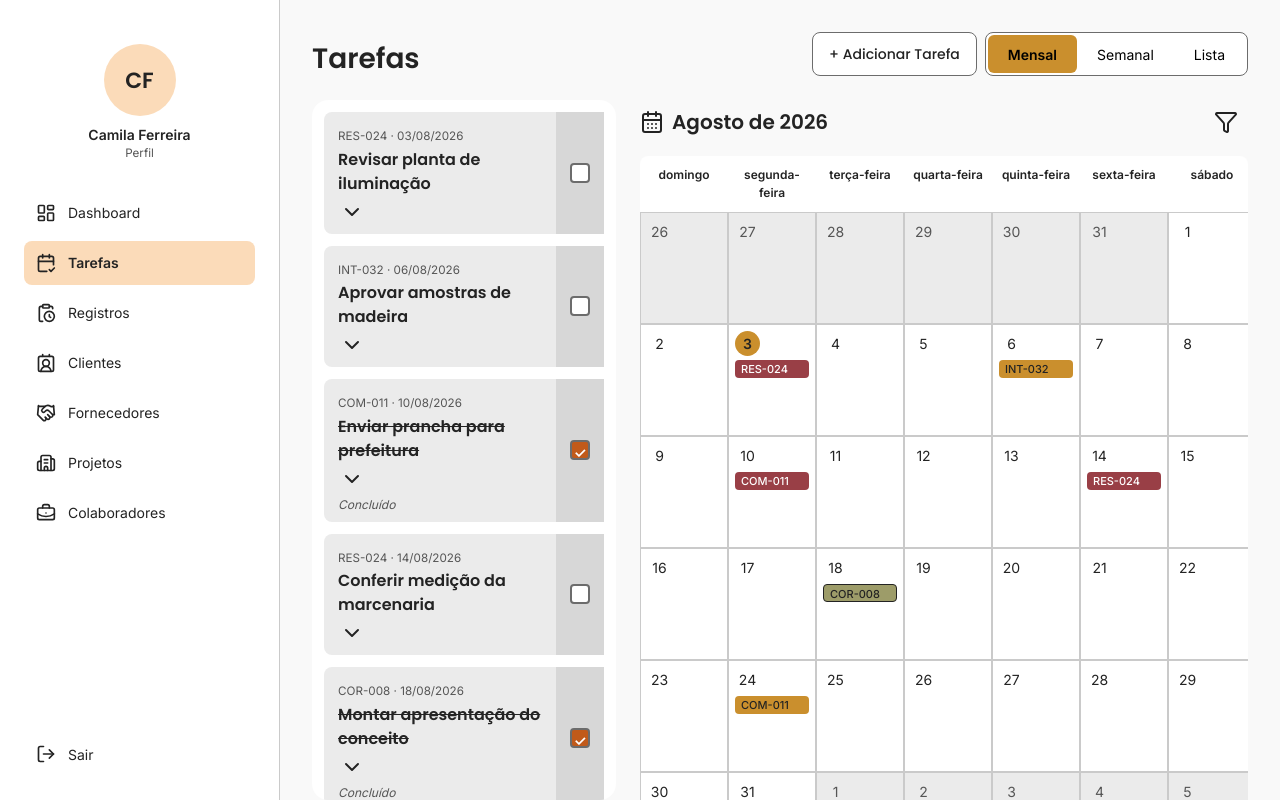
it: Tarefas › valida o registro de tempo e permite cancelar
This screenshot has width=1280, height=800.
Step 1. Click the button named "RES-024 — Revisar planta de iluminação" → (772, 369), box [735, 360, 809, 378]
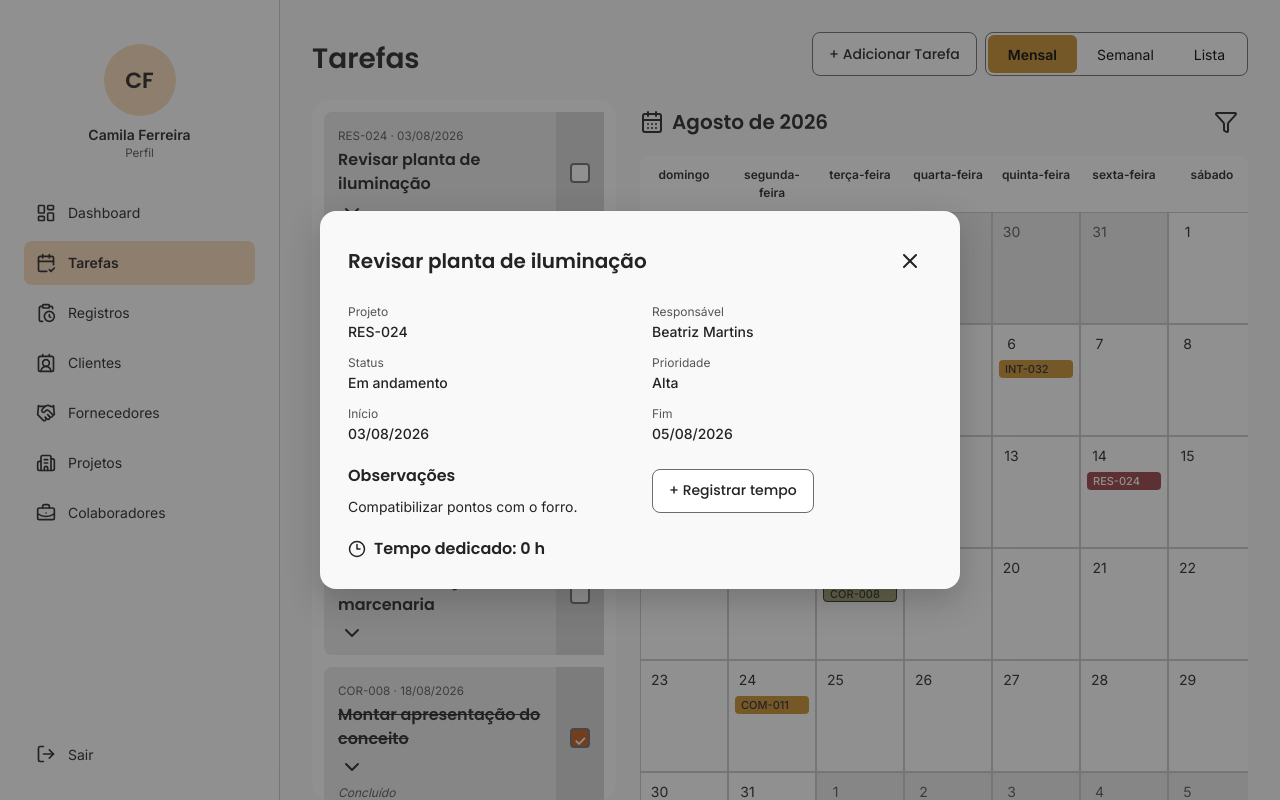
Step 2. Click the button "+ Registrar tempo" → (733, 490), box [652, 468, 814, 512]
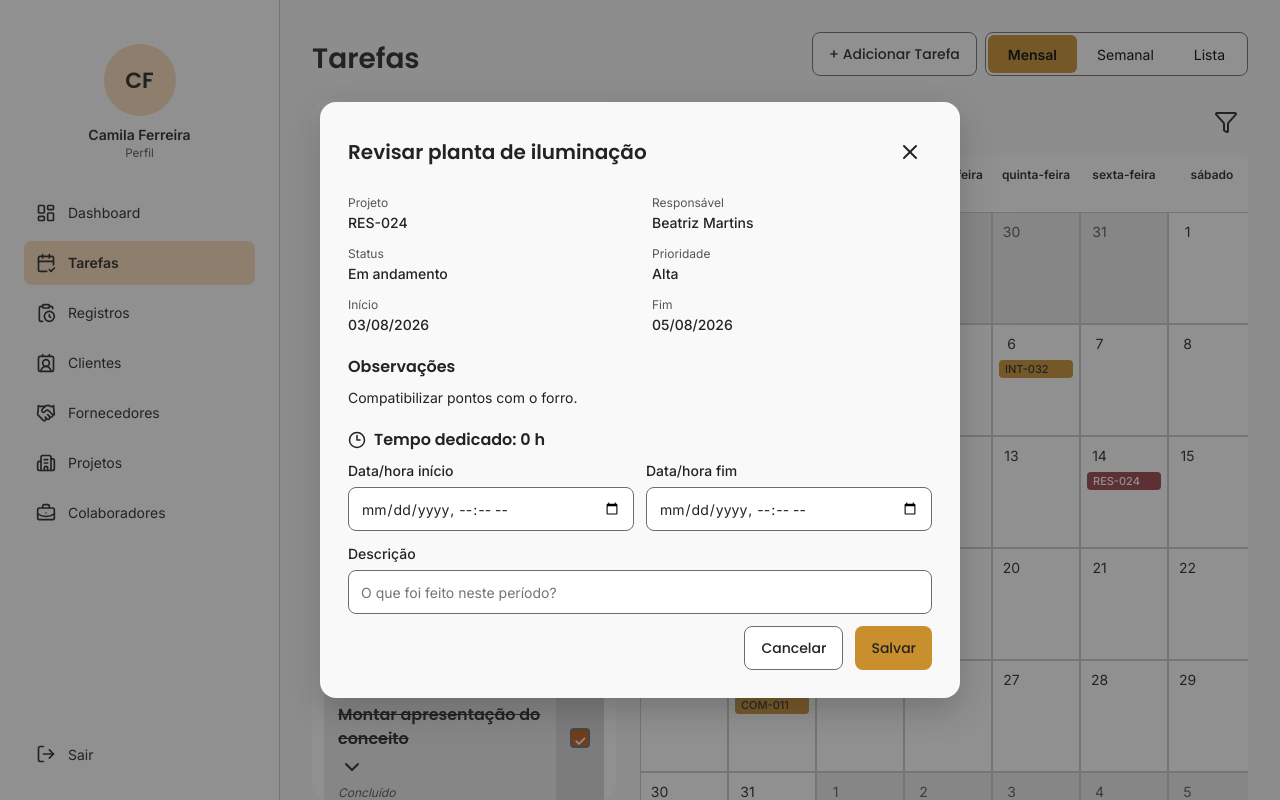
Step 3. Click the button "Salvar" → (894, 648), box [855, 626, 932, 670]
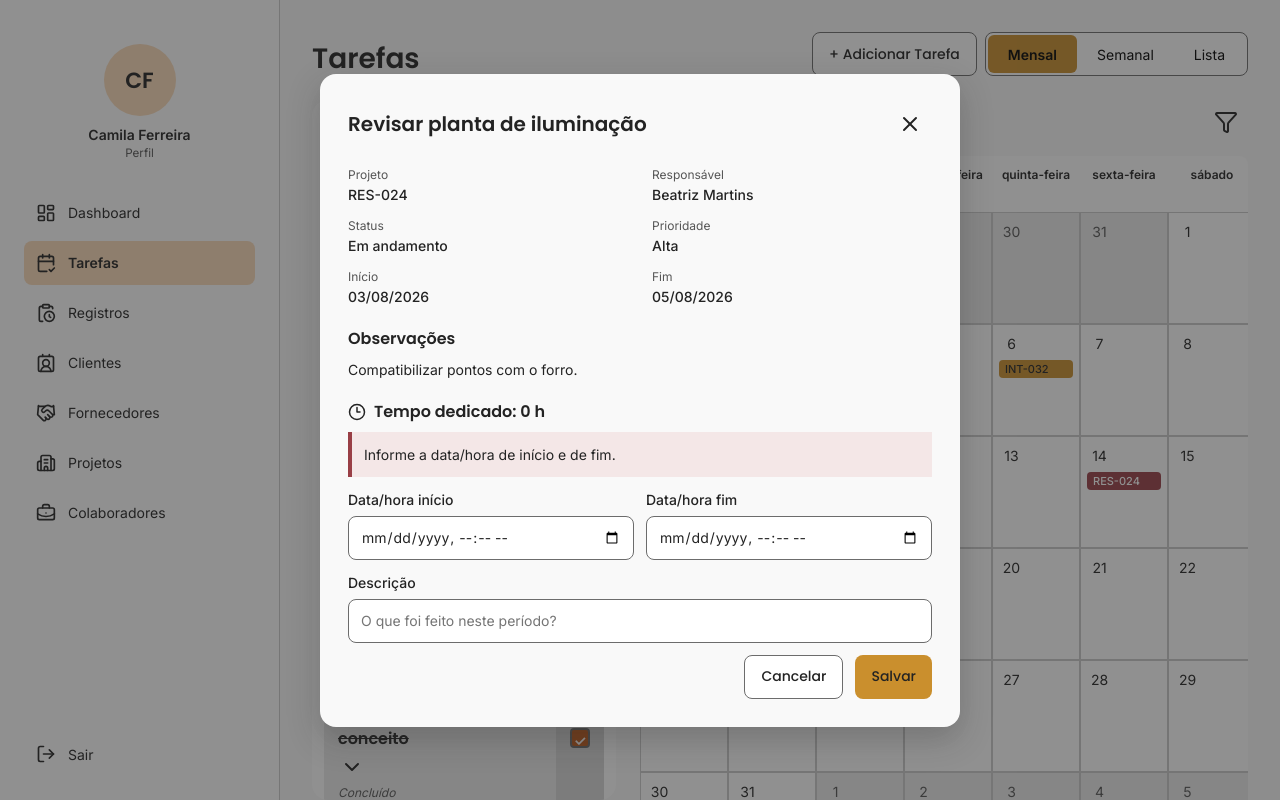
Check: the text "Informe a data/hora de início e de fim." is shown, box [348, 432, 932, 476]
Step 4. Type "2026-08-04T11:00" into the field labelled "Data/hora início" → (491, 538), box [348, 516, 634, 560]
Step 5. Type "2026-08-04T09:00" into the field labelled "Data/hora fim" → (789, 538), box [646, 516, 932, 560]
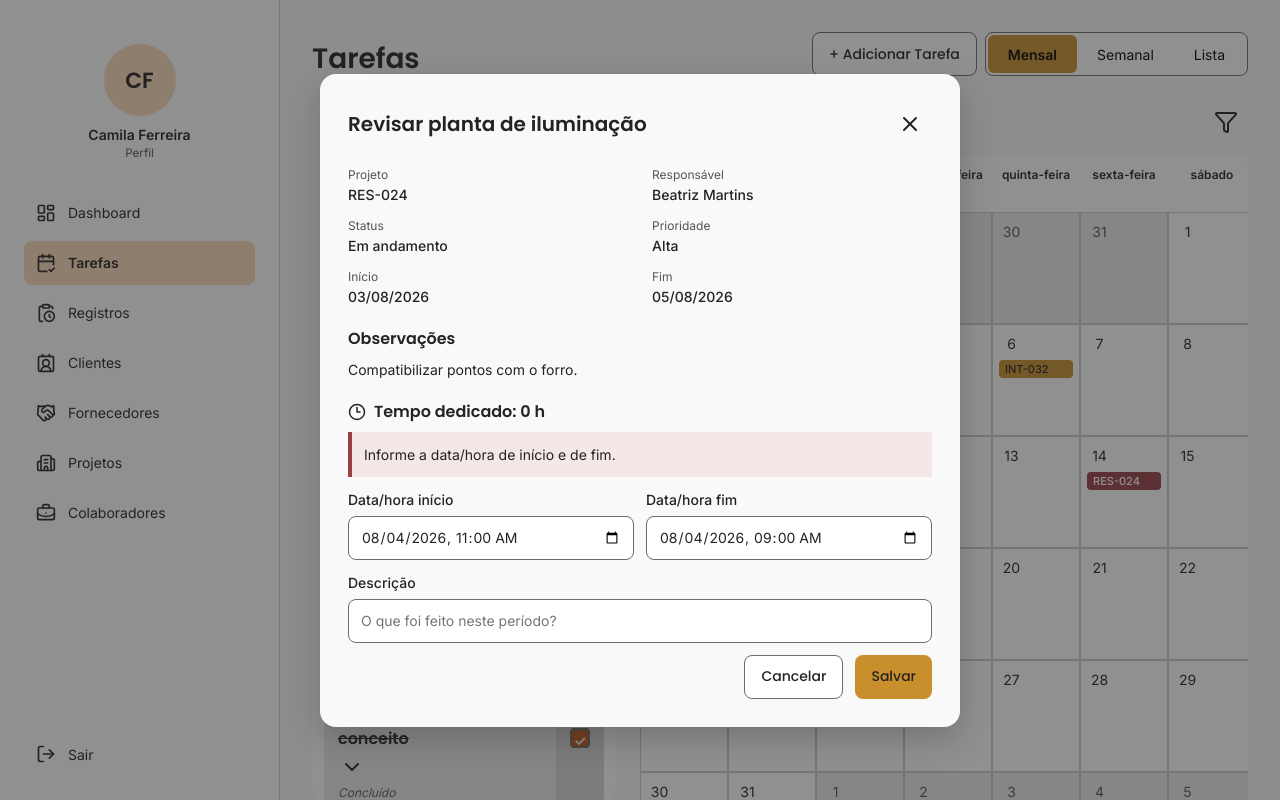
Step 6. Click the button "Salvar" → (894, 676), box [855, 654, 932, 698]
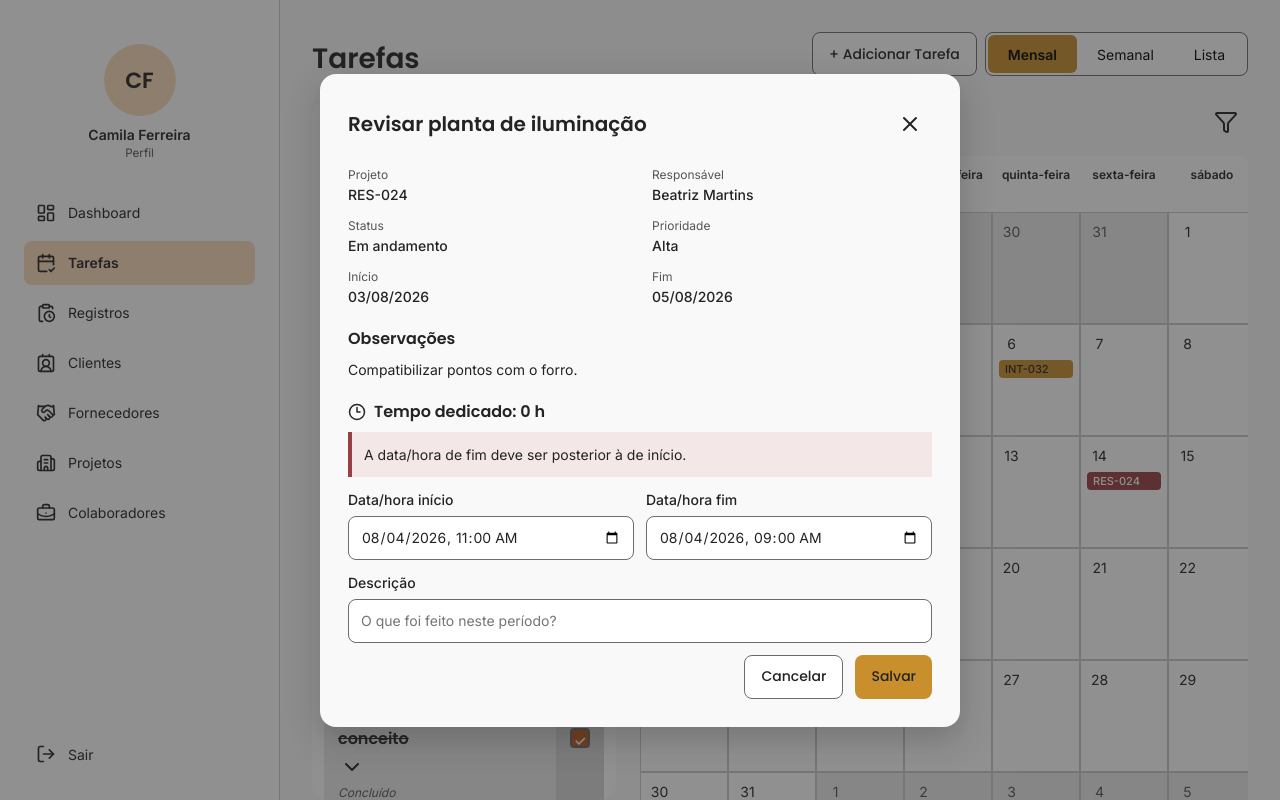
Check: the text "A data/hora de fim deve ser posterior à de início." is shown, box [348, 432, 932, 476]
Step 7. Click the button "Cancelar" → (794, 676), box [744, 654, 843, 698]
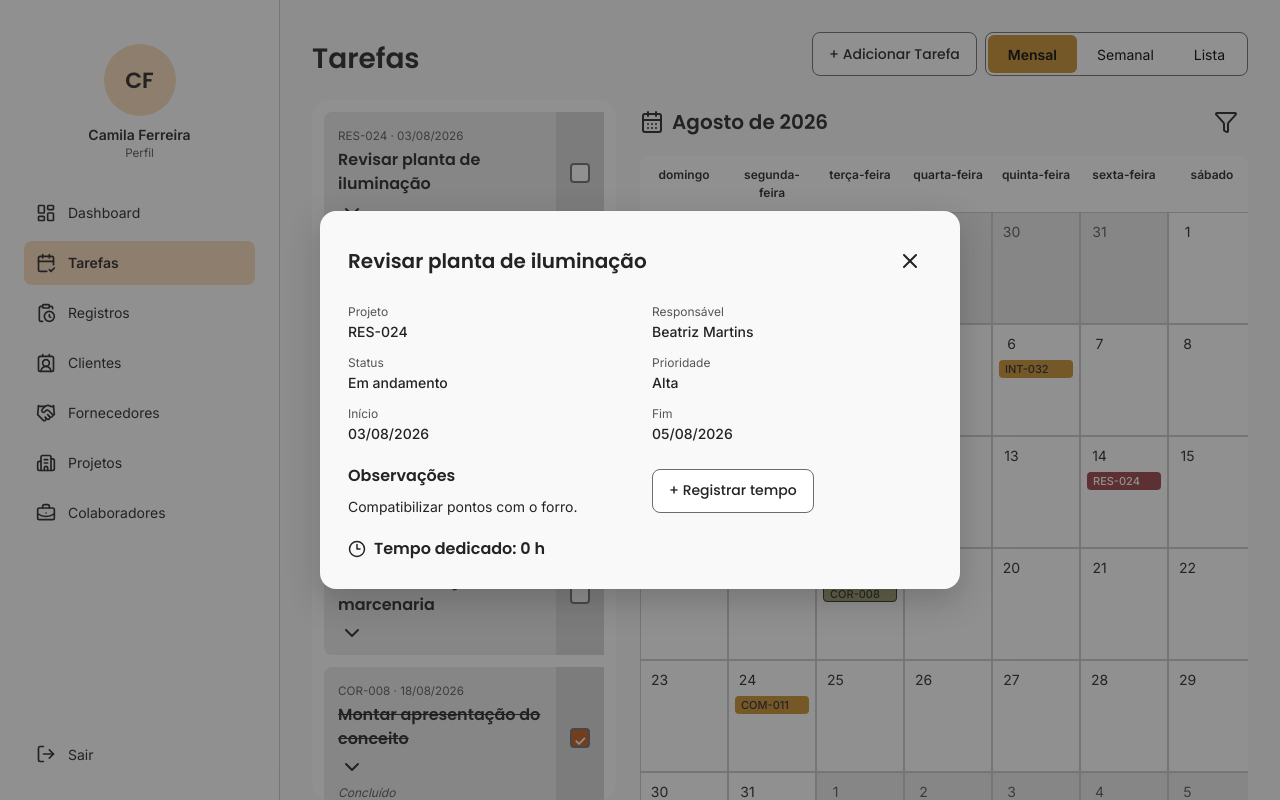
Check: the heading "Tempo dedicado: 0 h" is shown, box [348, 537, 545, 560]
Check: the button "+ Registrar tempo" is shown, box [652, 468, 814, 512]
